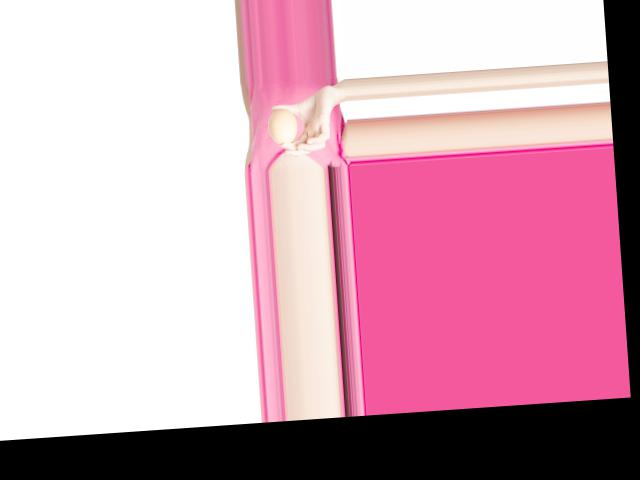egg: (268, 107, 298, 145)
